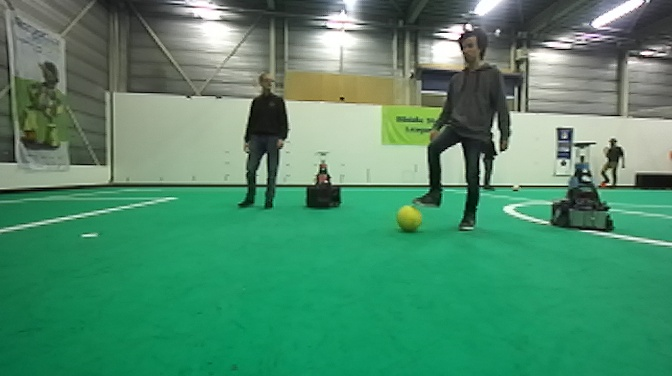ball: (394, 203, 423, 234), (511, 182, 521, 193), (598, 181, 609, 188)
human: (411, 29, 512, 232), (235, 70, 291, 210), (598, 138, 627, 190)
robot: (550, 140, 615, 233), (304, 150, 343, 212)
